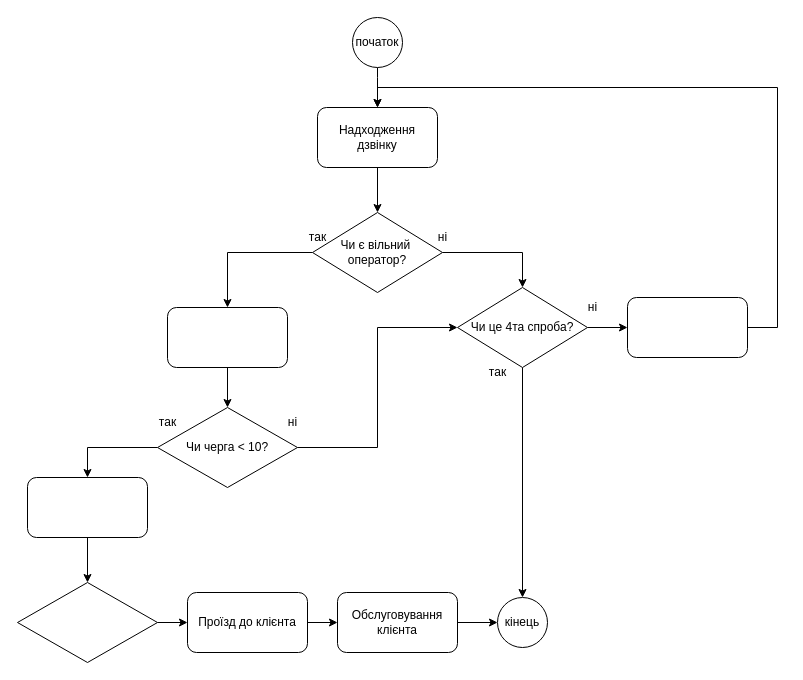
This 803x680 diagram has some shape labels left out. The centre of each missing label's shape, as x and y in pixels:
"Додавання клієнта у чергу" goes at (87,507).
"Обробка запиту" goes at (227,337).
"Очікування повторного дзвінку" goes at (687,327).
"Чи є вільне таксі?" goes at (87,622).
